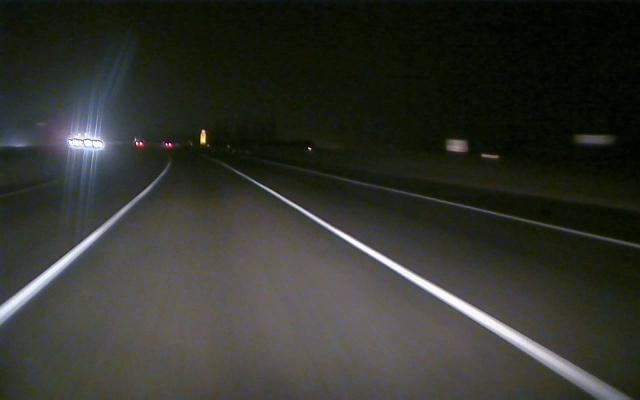lane: (221, 163, 627, 398), (334, 175, 640, 249), (1, 184, 154, 324)
